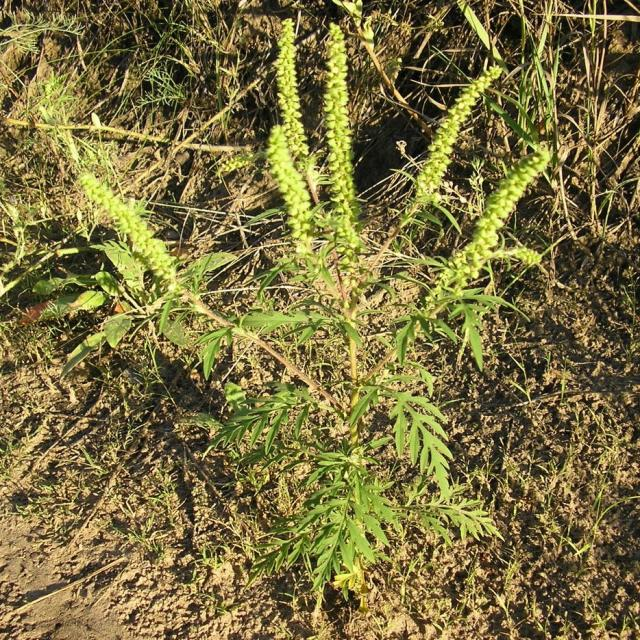ambrosia: (11, 140, 253, 324), (400, 56, 561, 324), (257, 12, 312, 264), (321, 14, 373, 263)
